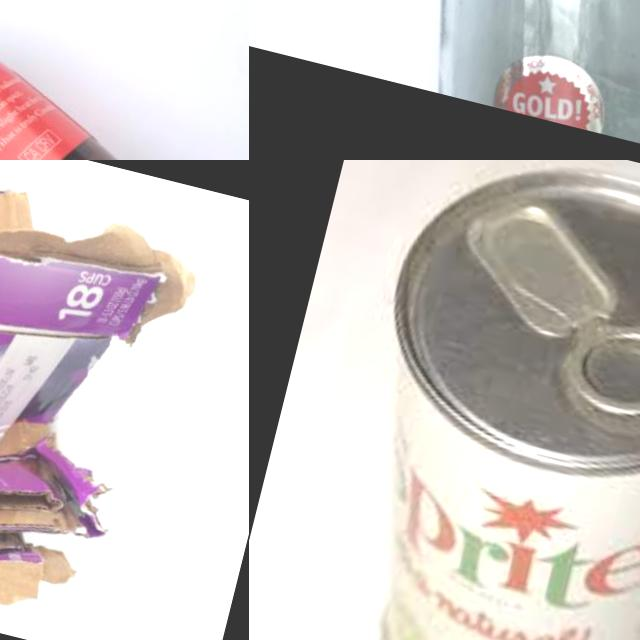aba de lata: (549, 300, 640, 444)
garrafa de vidro: (0, 0, 249, 160), (399, 0, 640, 157)
lata: (293, 160, 640, 640)
papelão: (0, 160, 203, 640)
